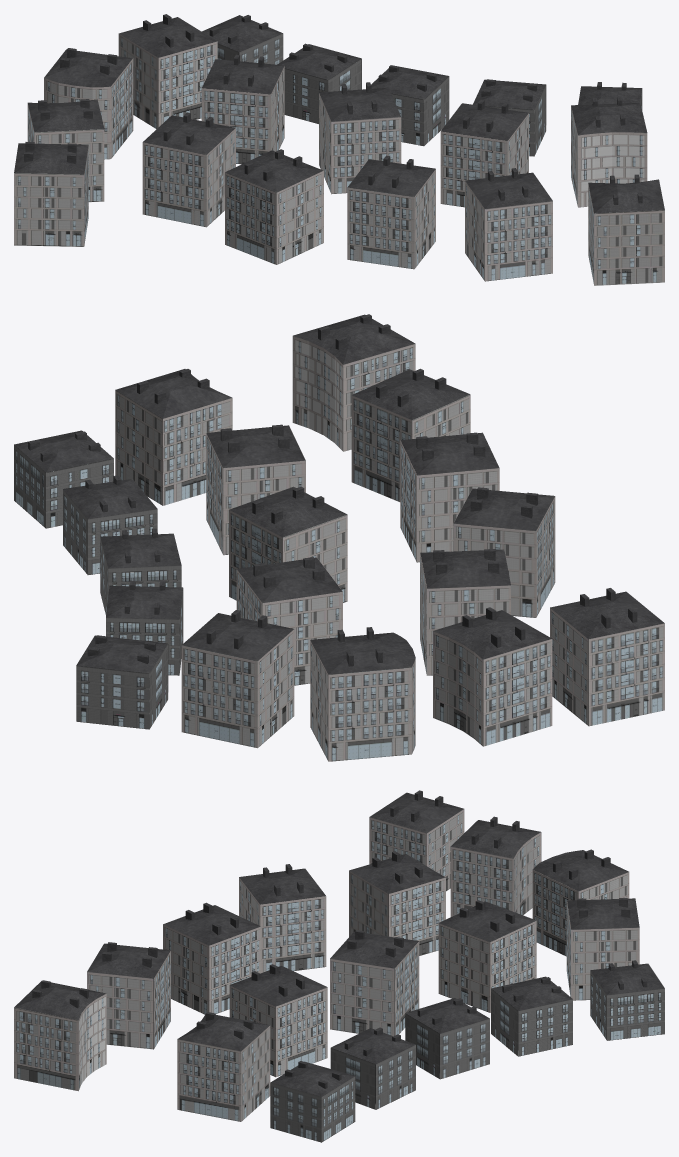
The model's file is neimark-hotel.glb.
3 renders of one model, top to bottom at view 1: azimuth 30°, elevation 25°; view 2: azimuth 150°, elevation 25°; view 3: azimuth 270°, elevation 25°, orthographic. The views are drawn at different scales.
Parts seen in each view (by area): view 1: Building8, Building5, Building11, Building4, Building1, Building17, Building14, Building9, Building6, Building12, Building2, Building16 (+6 smaller); view 2: Building15, Building17, Building14, Building16, Building2, Building1, Building4, Building5, Building8, Building9, Building6, Building18 (+6 smaller); view 3: Building2, Building1, Building12, Building9, Building5, Building11, Building8, Building6, Building15, Building4, Building17, Building16 (+6 smaller).
Part boxes in pixels (left/top/right/bottom): Building8: left=225, top=149, right=323, bottom=264; Building5: left=347, top=155, right=435, bottom=269; Building11: left=142, top=112, right=235, bottom=227; Building4: left=465, top=168, right=552, bottom=281; Building1: left=588, top=174, right=664, bottom=285; Building17: left=118, top=14, right=217, bottom=128; Building14: left=14, top=142, right=88, bottom=246; Building9: left=319, top=82, right=401, bottom=194; Building6: left=440, top=99, right=528, bottom=207; Building12: left=201, top=54, right=284, bottom=164; Building2: left=571, top=96, right=647, bottom=207; Building16: left=44, top=48, right=133, bottom=159; Building15: left=433, top=607, right=552, bottom=746; Building17: left=181, top=610, right=294, bottom=748; Building14: left=550, top=588, right=664, bottom=726; Building16: left=310, top=627, right=415, bottom=761; Building2: left=115, top=369, right=232, bottom=505; Building1: left=292, top=314, right=415, bottom=451; Building4: left=351, top=368, right=470, bottom=501; Building5: left=400, top=432, right=499, bottom=562; Building8: left=453, top=487, right=555, bottom=617; Building9: left=229, top=486, right=347, bottom=602; Building6: left=206, top=424, right=305, bottom=555; Building18: left=76, top=635, right=168, bottom=729; Building2: left=177, top=1012, right=270, bottom=1121; Building1: left=14, top=980, right=106, bottom=1091; Building12: left=438, top=900, right=536, bottom=1012; Building9: left=330, top=930, right=419, bottom=1036; Building5: left=163, top=902, right=261, bottom=1014; Building11: left=349, top=851, right=445, bottom=955; Building8: left=239, top=864, right=326, bottom=972; Building6: left=229, top=964, right=327, bottom=1077; Building15: left=450, top=816, right=541, bottom=916; Building4: left=87, top=942, right=170, bottom=1049; Building17: left=566, top=898, right=639, bottom=1000; Building16: left=532, top=849, right=629, bottom=956.
Bounding box in the file's own units: 4.06 × 0.5485 × 4.
Materials: 18 (18 with a texture image).
